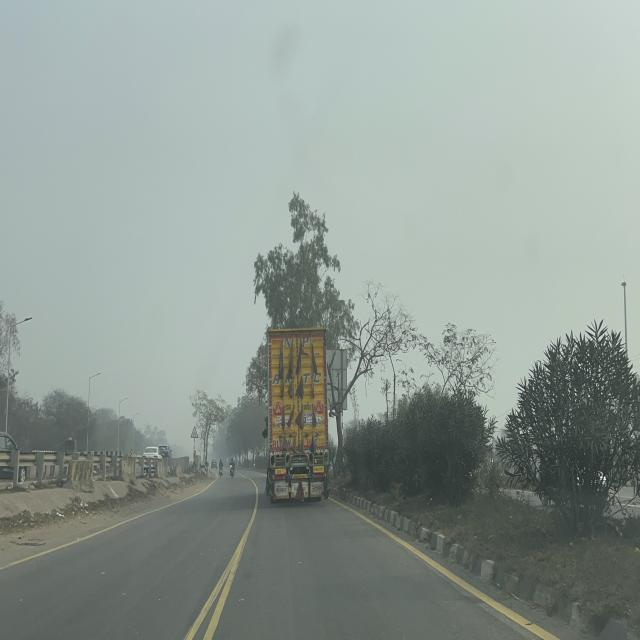ROAD_WIDENS_AHEAD: (190, 426, 198, 438)
